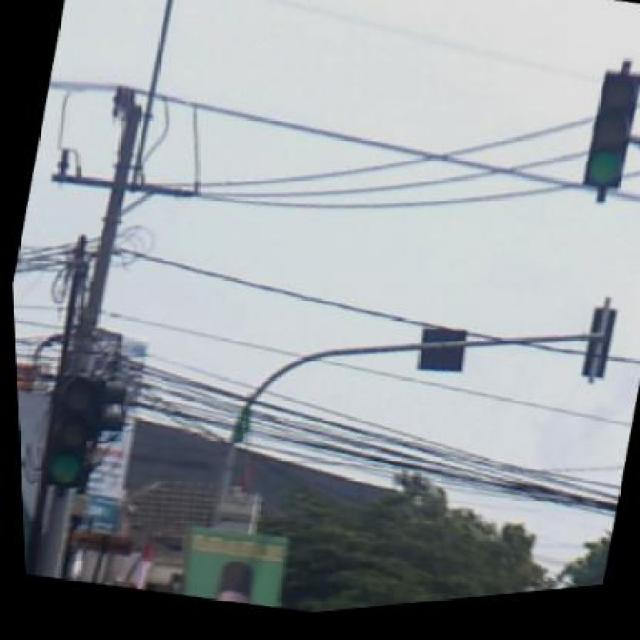green_light: (568, 72, 638, 214), (31, 370, 108, 499)
